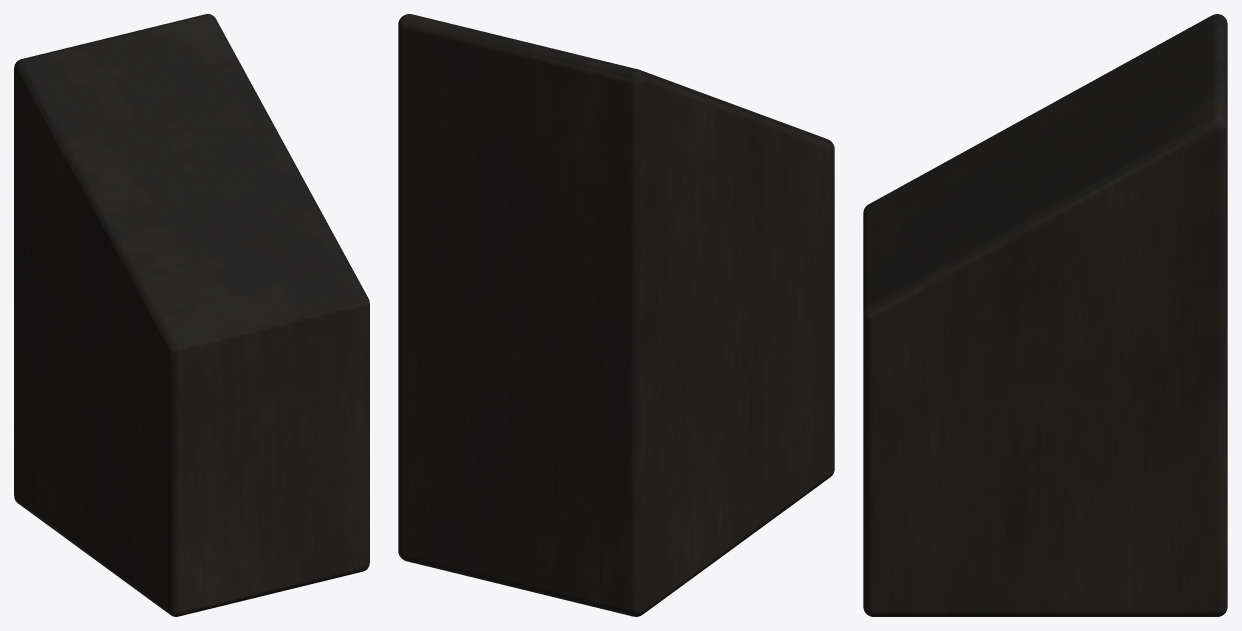
Rendered from bishop-black.glb.
3 renders of one model, left to right at view 1: azimuth 30°, elevation 25°; view 2: azimuth 150°, elevation 25°; view 3: azimuth 270°, elevation 25°, orthographic. The views are drawn at different scales.
Parts seen in each view (by area): view 1: Rez_Strelec_cerny; view 2: Rez_Strelec_cerny; view 3: Rez_Strelec_cerny.
Boxes of the visible parts, x1,y1,x2,y2 form: Rez_Strelec_cerny: [14, 14, 369, 616]; Rez_Strelec_cerny: [398, 14, 834, 616]; Rez_Strelec_cerny: [863, 14, 1227, 616].
Bounding box in the file's own units: 0.4814 × 1.02 × 0.6739.
2 materials, 2 textured.
